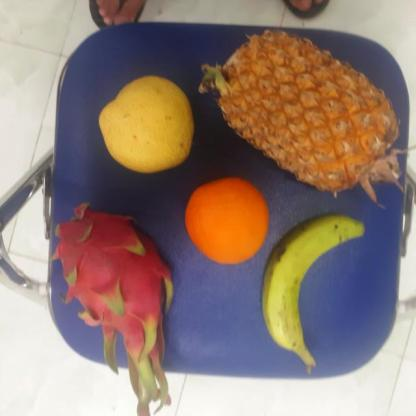banana: (263, 216, 356, 360)
orange: (183, 180, 272, 264)
pear: (98, 74, 197, 176)
pineapple: (213, 33, 406, 189)
pitaya: (51, 204, 177, 371)
